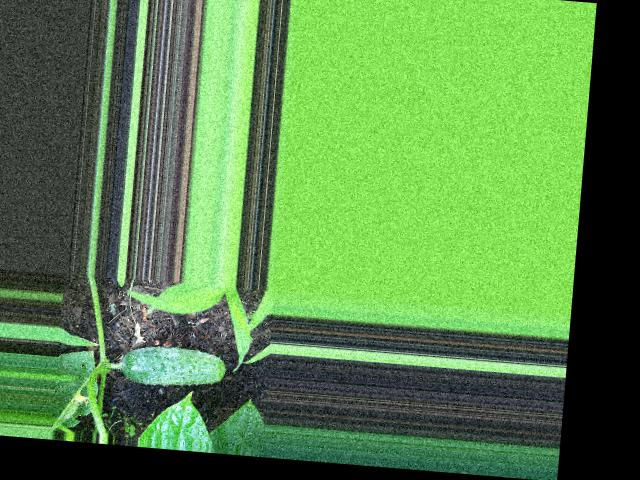cucumber: (119, 342, 228, 390)
